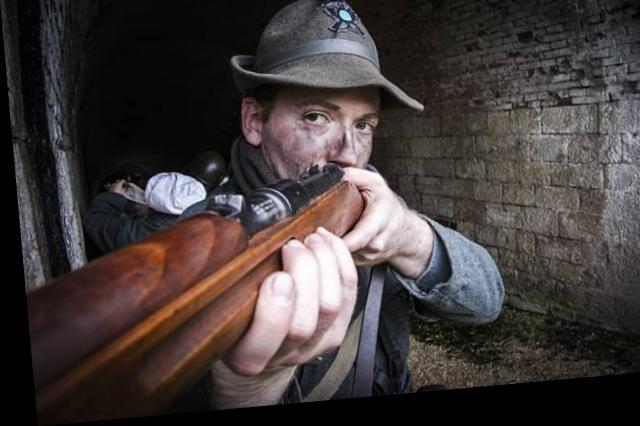other: (206, 35, 468, 397)
